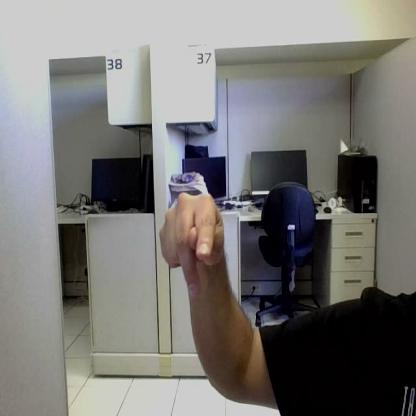P: (160, 194, 224, 296)
